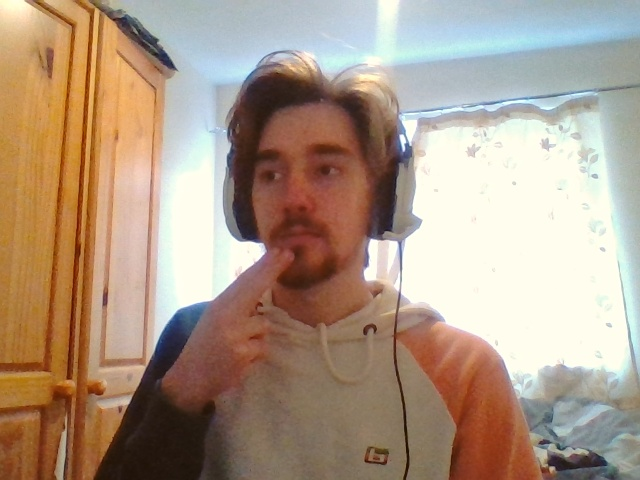afternoon: (195, 246, 294, 375)
